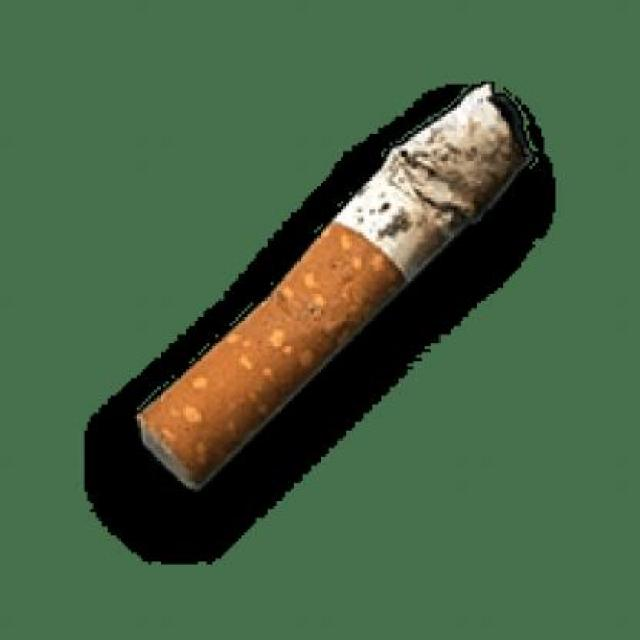cigarette: (125, 64, 544, 491)
